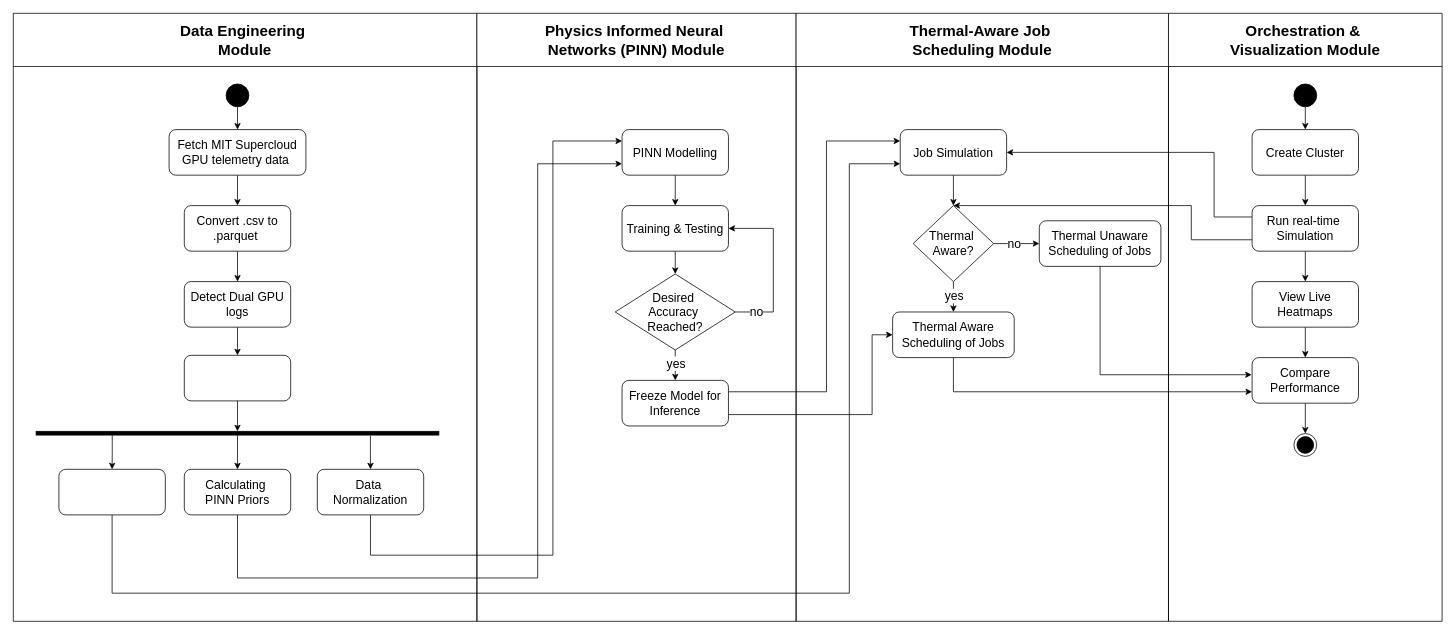
Some shapes in this 1455 by 635 pixel diagram are drawn without their labels. The centre of each missing label's shape, as x and y in pixels:
"Data Cleaning" belongs at [237,378].
"Job Work Profile Generation" belongs at [111,492].
